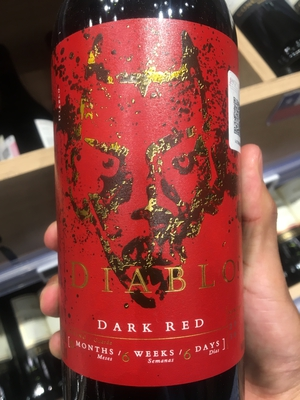diablo dark red: (46, 8, 257, 400)
